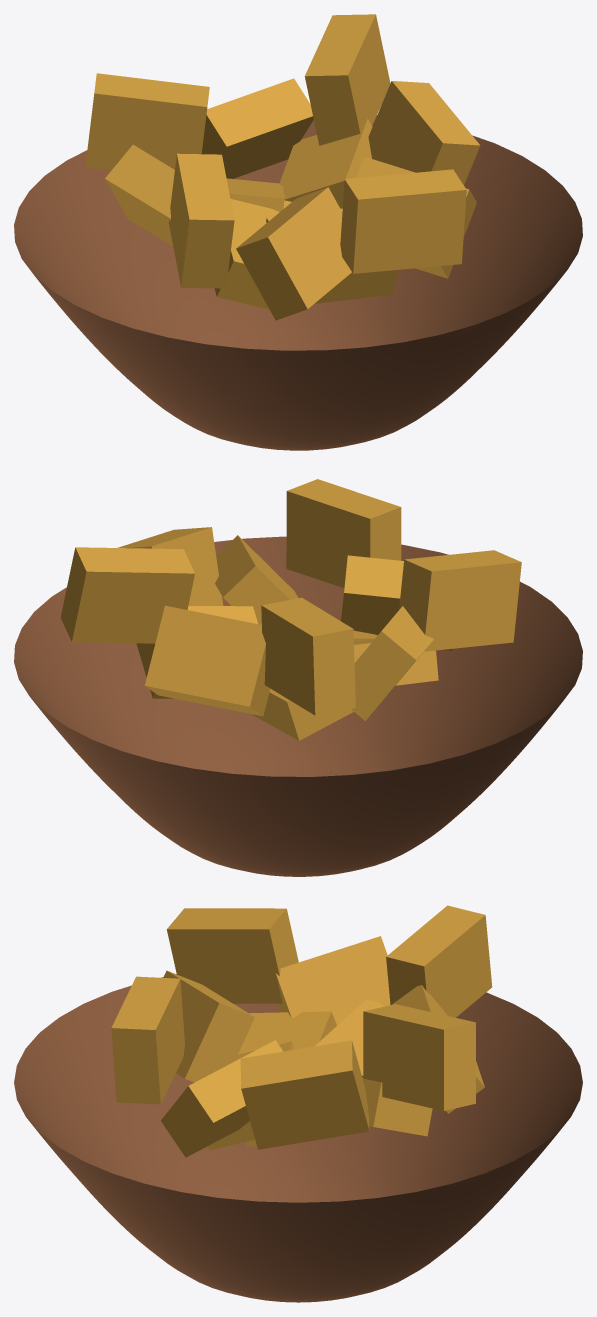
The model's file is fritas-2-card.glb.
The picture shows the model from 3 angles, top to bottom: view 1: azimuth 30°, elevation 25°; view 2: azimuth 150°, elevation 25°; view 3: azimuth 270°, elevation 25°; orthographic projection.
Bounding box in the file's own units: 0.15 × 0.0866 × 0.15.
